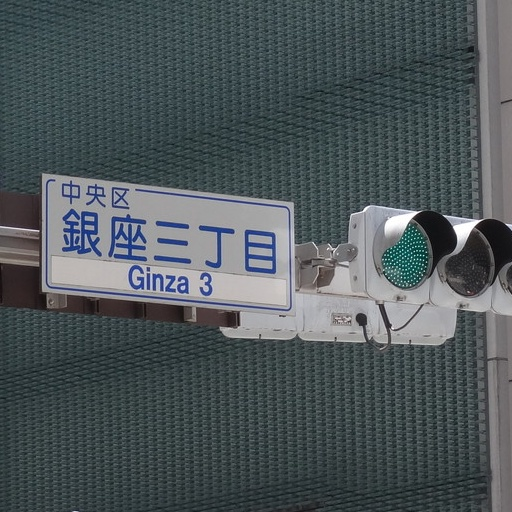Traffic_Signal_Blue: (372, 207, 509, 308)
